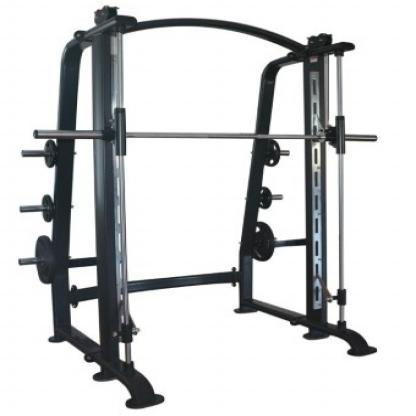smith machine: (31, 0, 379, 410)
